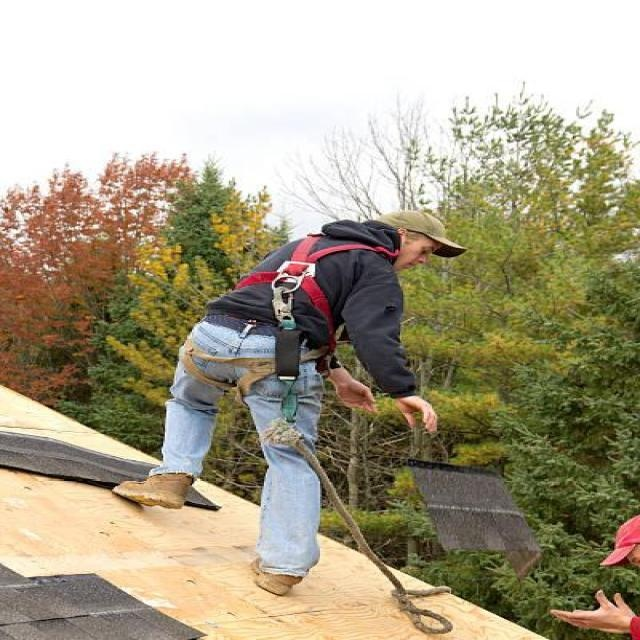Arnes_seguridad: (173, 232, 373, 400)
